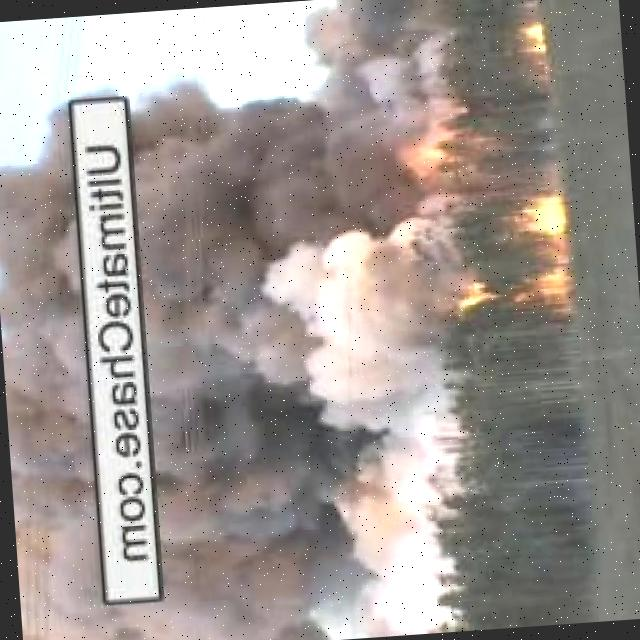fire: (455, 192, 574, 321), (378, 125, 467, 183), (518, 24, 545, 68)
